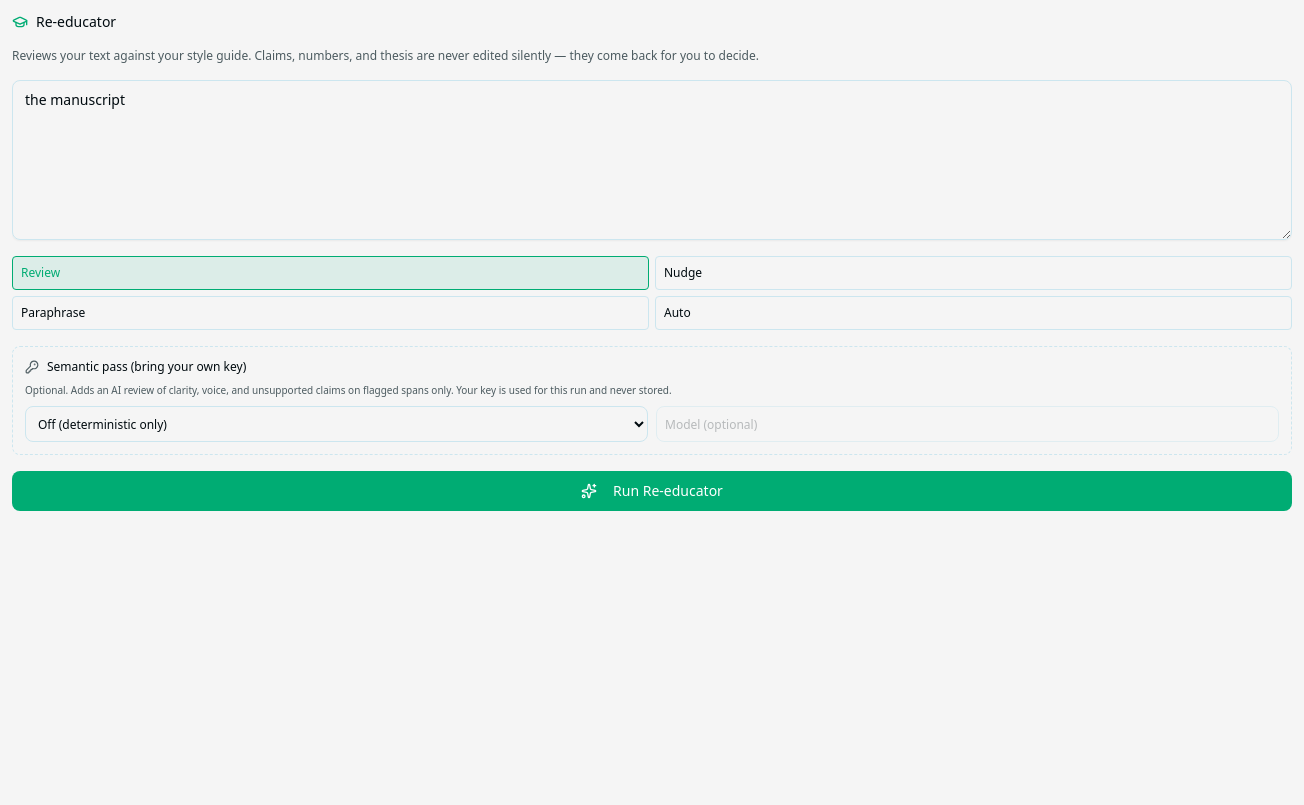
Test: ReEducatorPanel › runs review, renders grouped issues + summary, and posts the right body
Click the button "Run Re-educator": (652, 491) [12,471,1292,511]
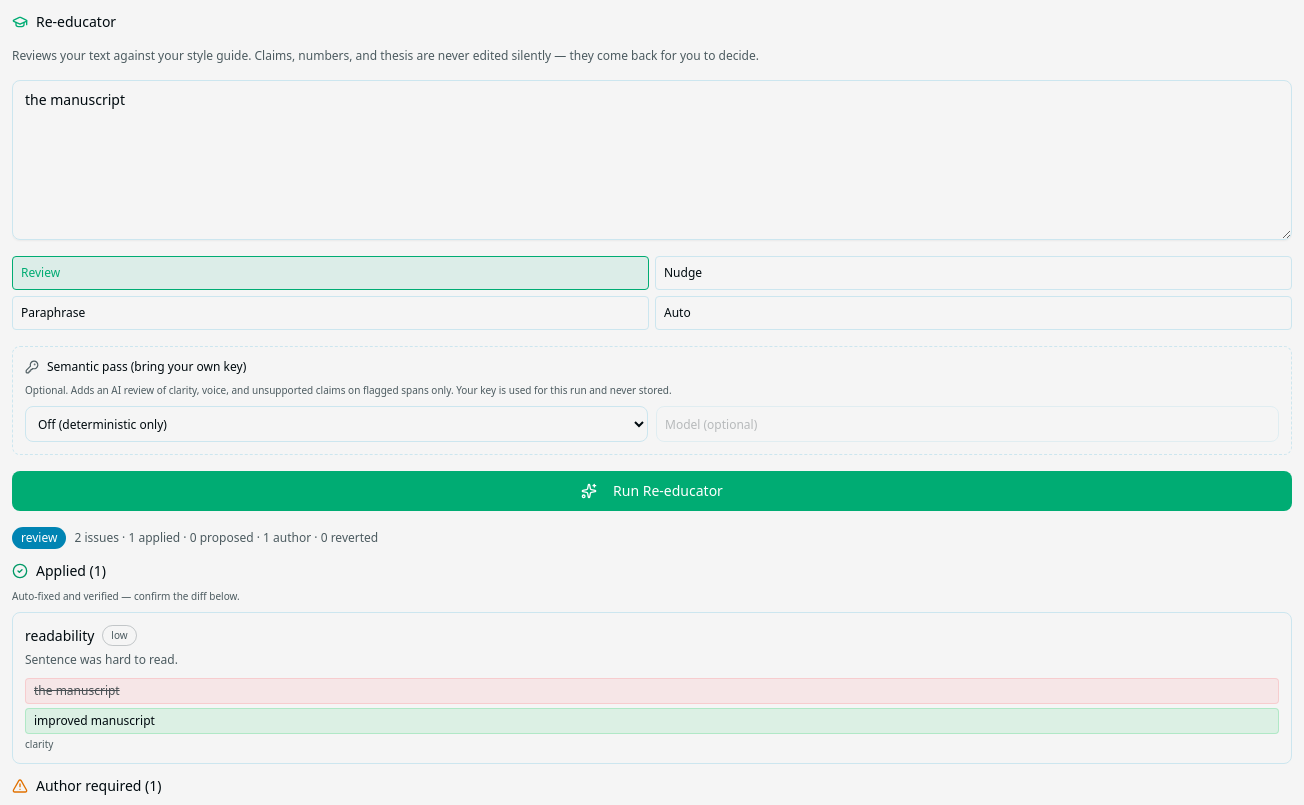
Expected: the text "Applied (1)" is shown, [36,561,106,581]
Expected: the text "Author required (1)" is shown, [36,776,162,796]
Expected: the text "readability" is shown, [25,626,94,646]
